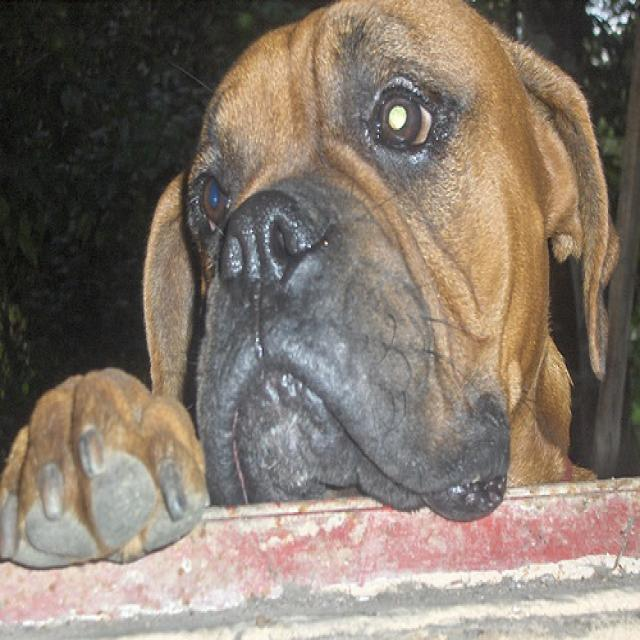dog-boxer: (1, 2, 625, 575)
